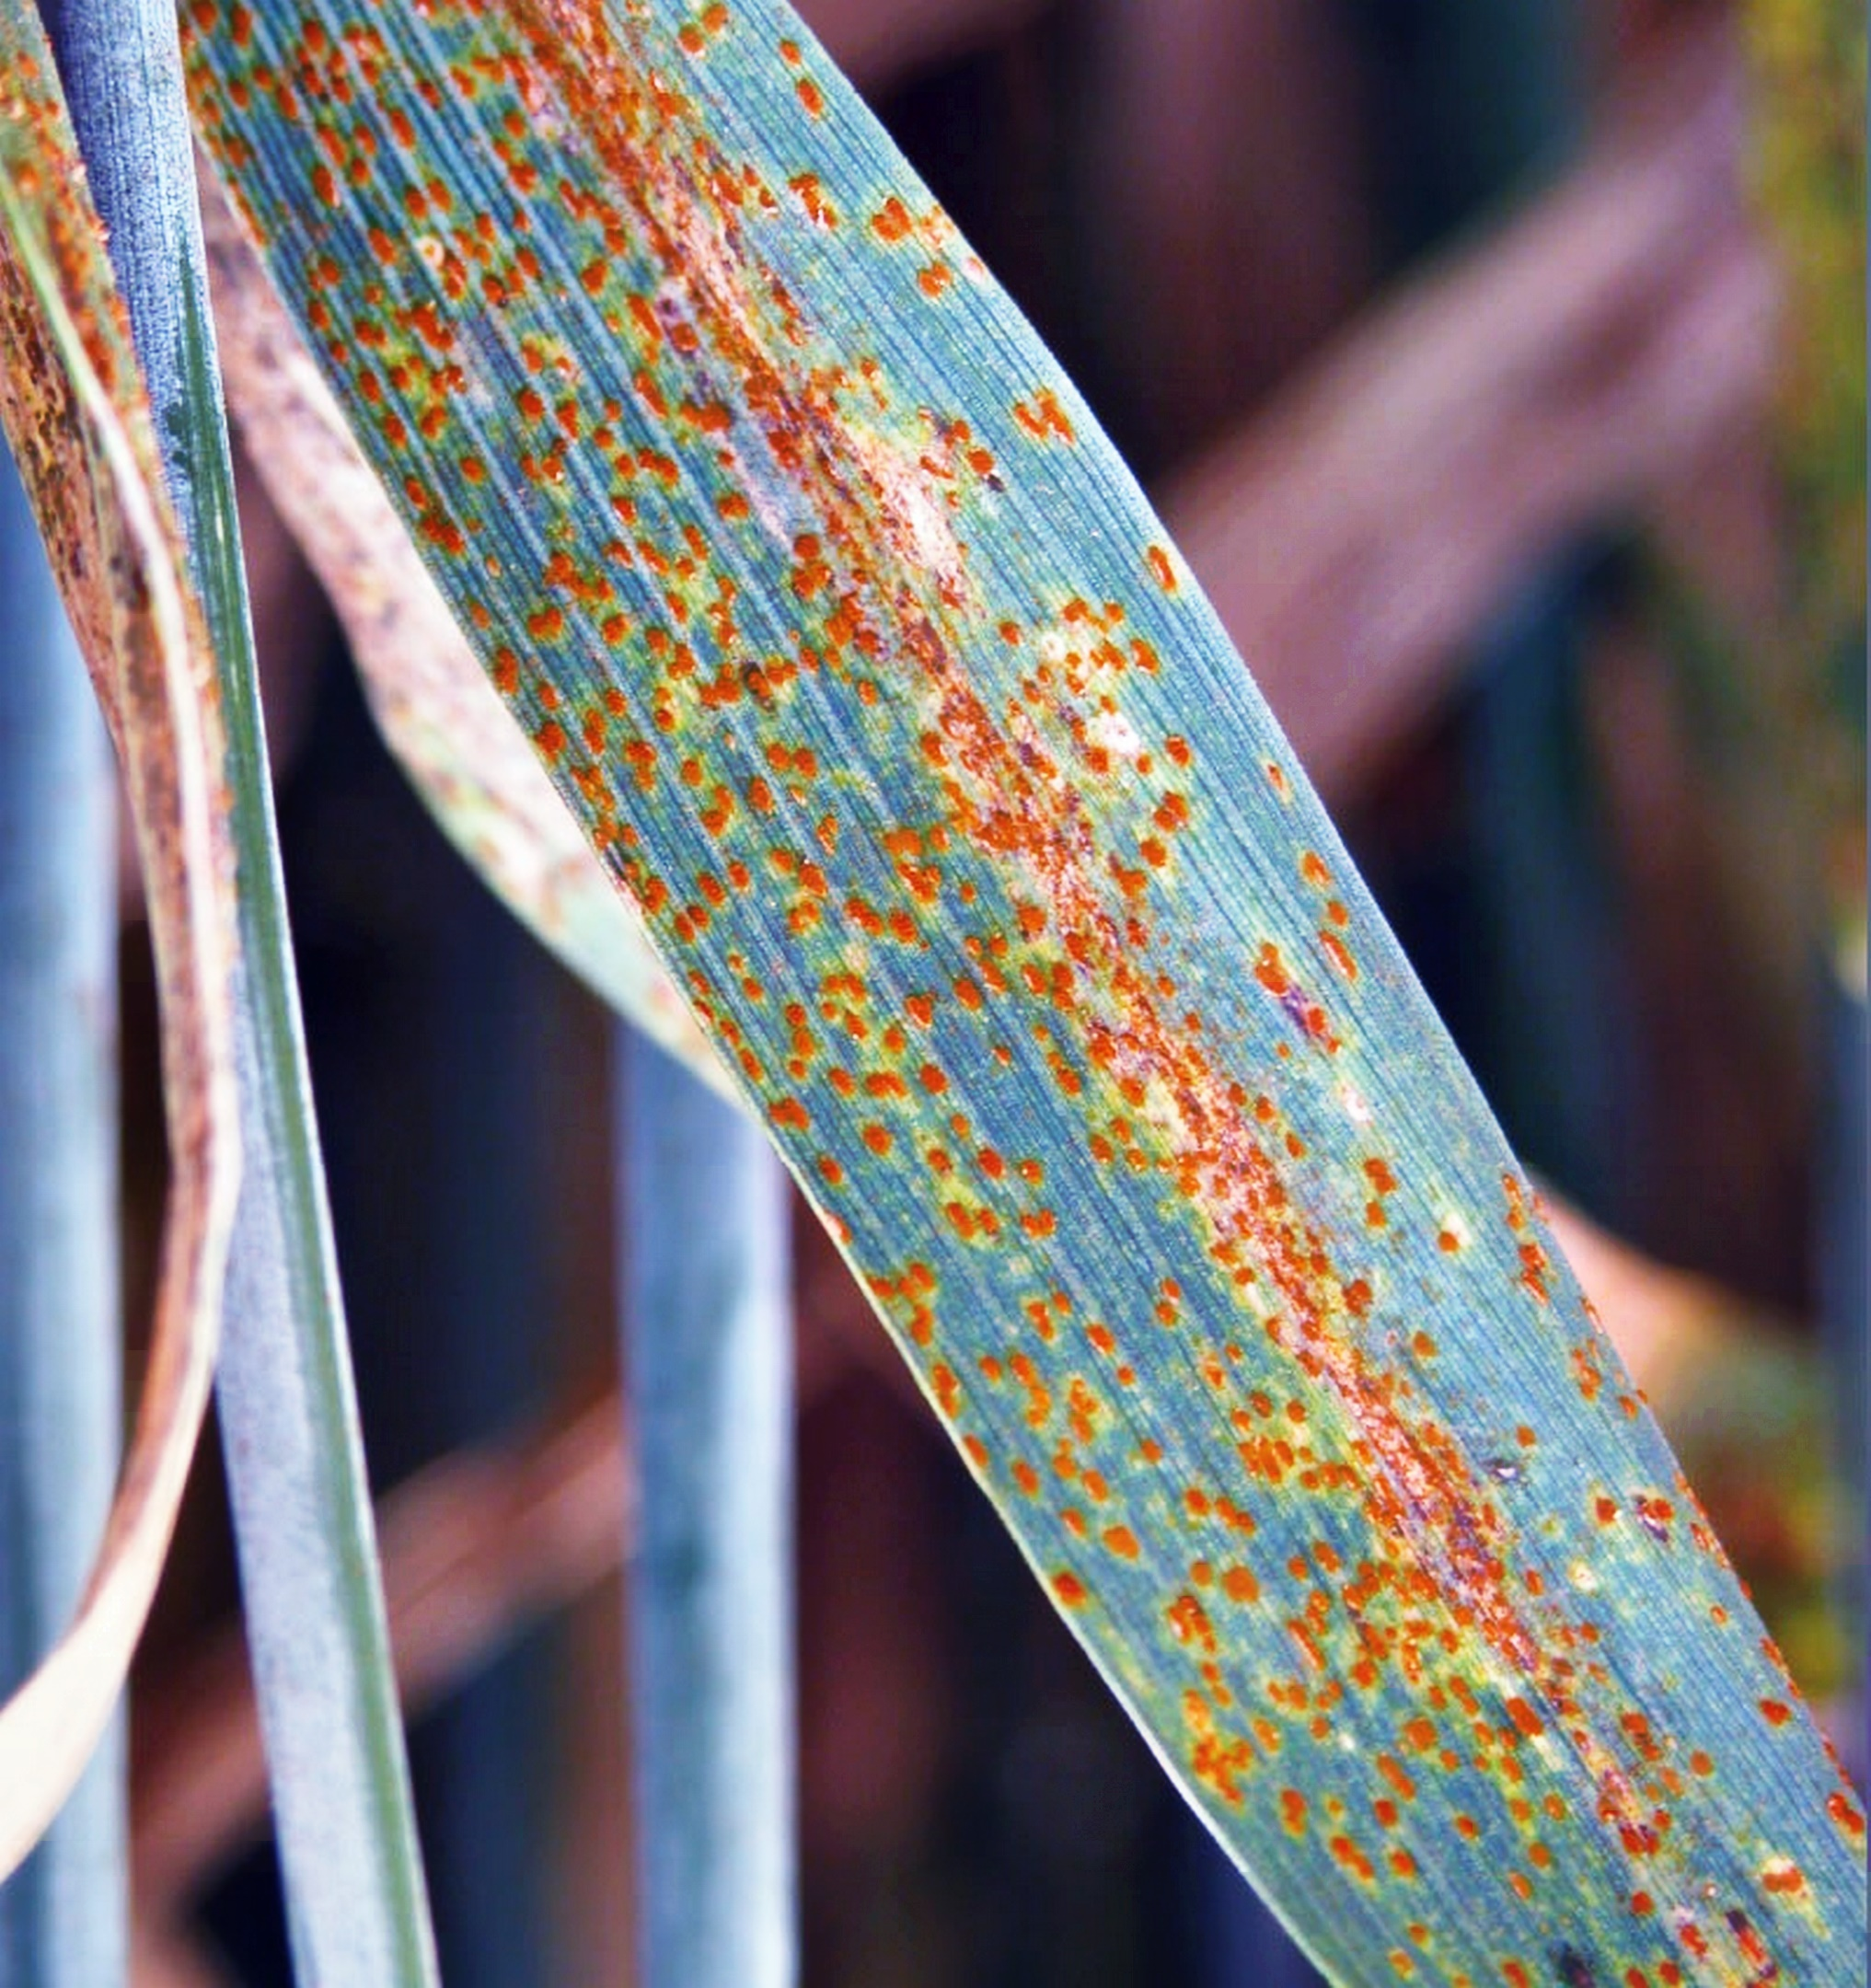Leaf Rust: (343, 93, 1804, 1988)
